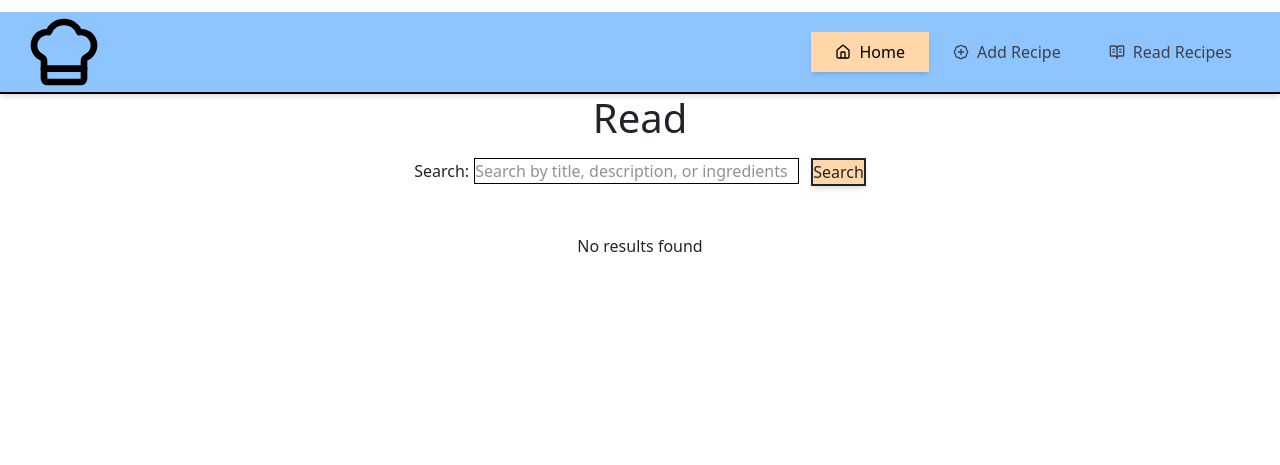
it: Test search bar functionality › should only return taco when type
The image size is (1280, 465).
Step 1. Type "taco" into the field with placeholder "Search by title, description, or ingredients" → (637, 171), box [474, 158, 799, 184]
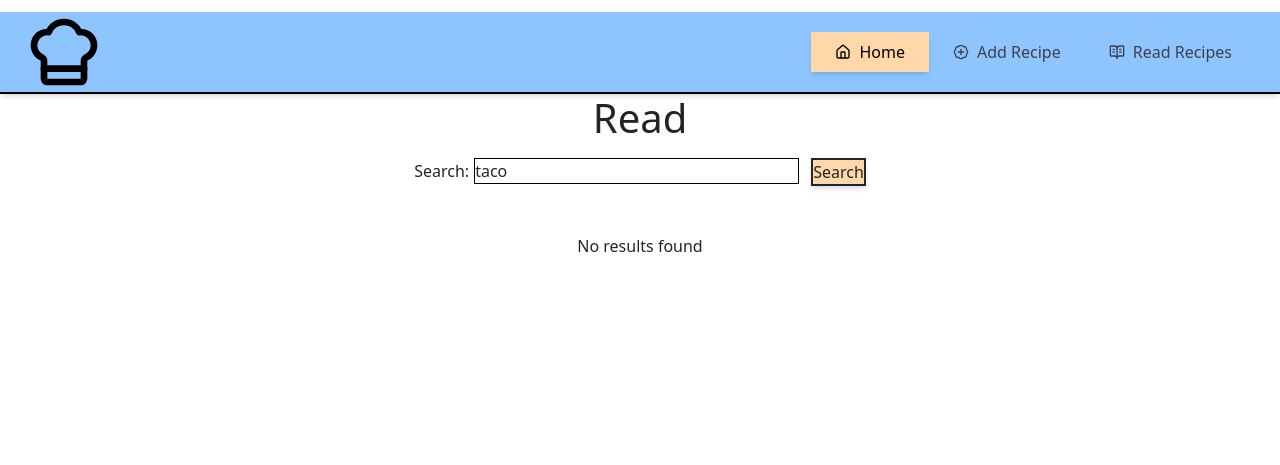
Step 2. Click the button "Search" → (838, 172), box [811, 158, 866, 186]
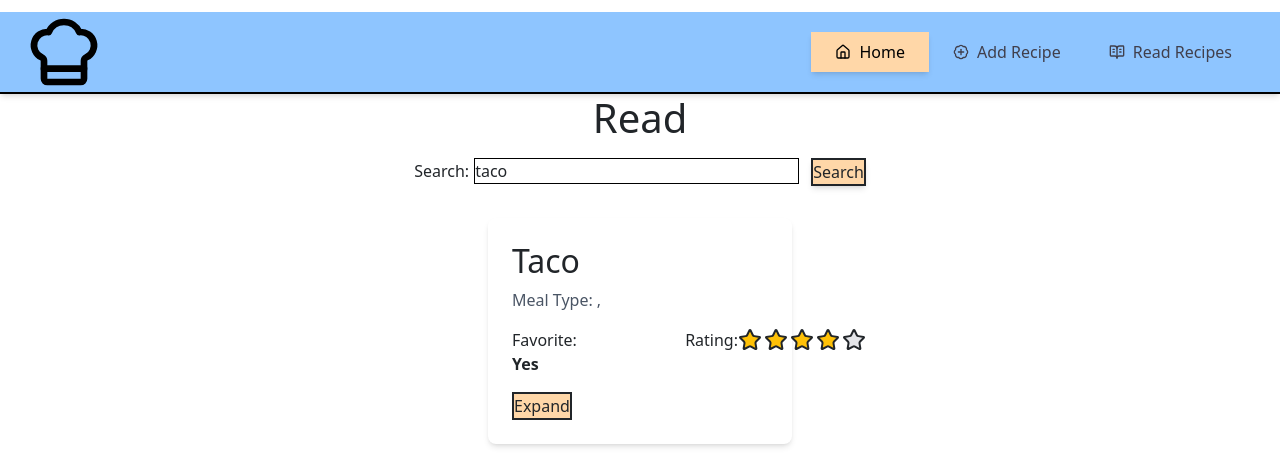
Check: the heading "Taco" is shown, box [512, 239, 580, 282]
